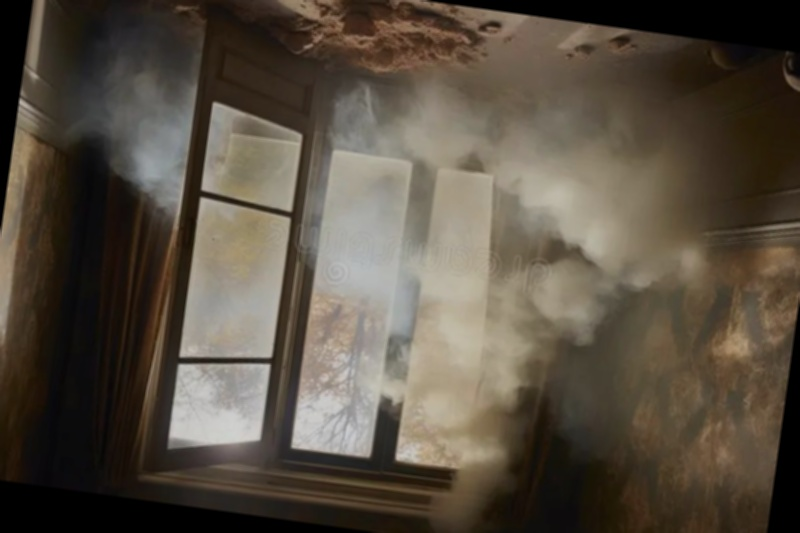smoke: (279, 58, 744, 431)
